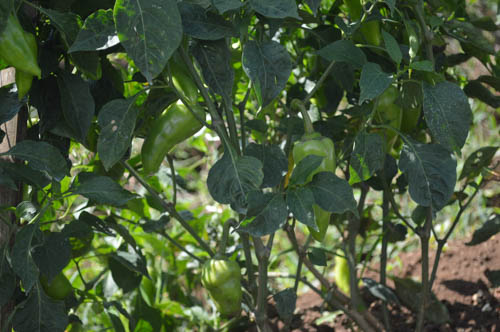ChiliPepper: (140, 104, 208, 182), (296, 139, 335, 241), (204, 258, 243, 316), (1, 19, 42, 74), (374, 87, 404, 140)
